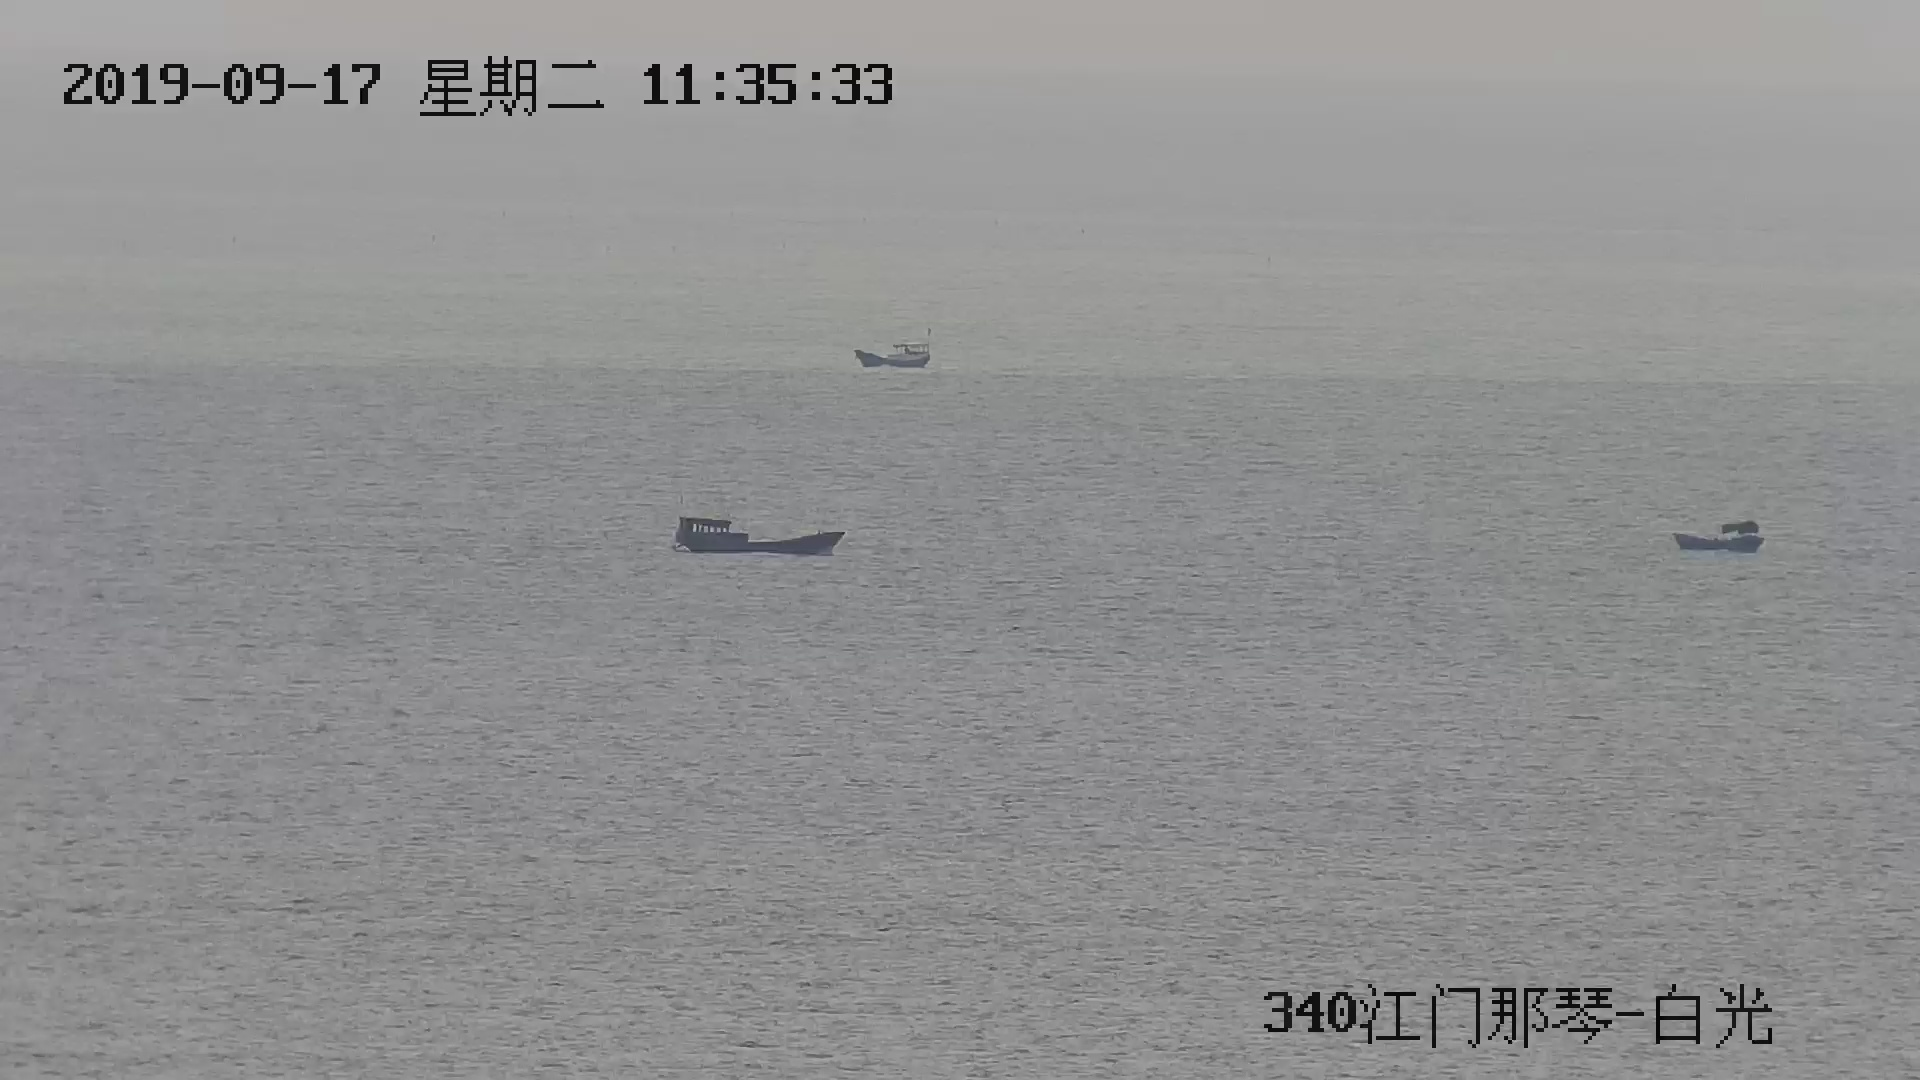ship: (674, 514, 849, 558), (1673, 516, 1763, 558), (855, 340, 931, 371)
